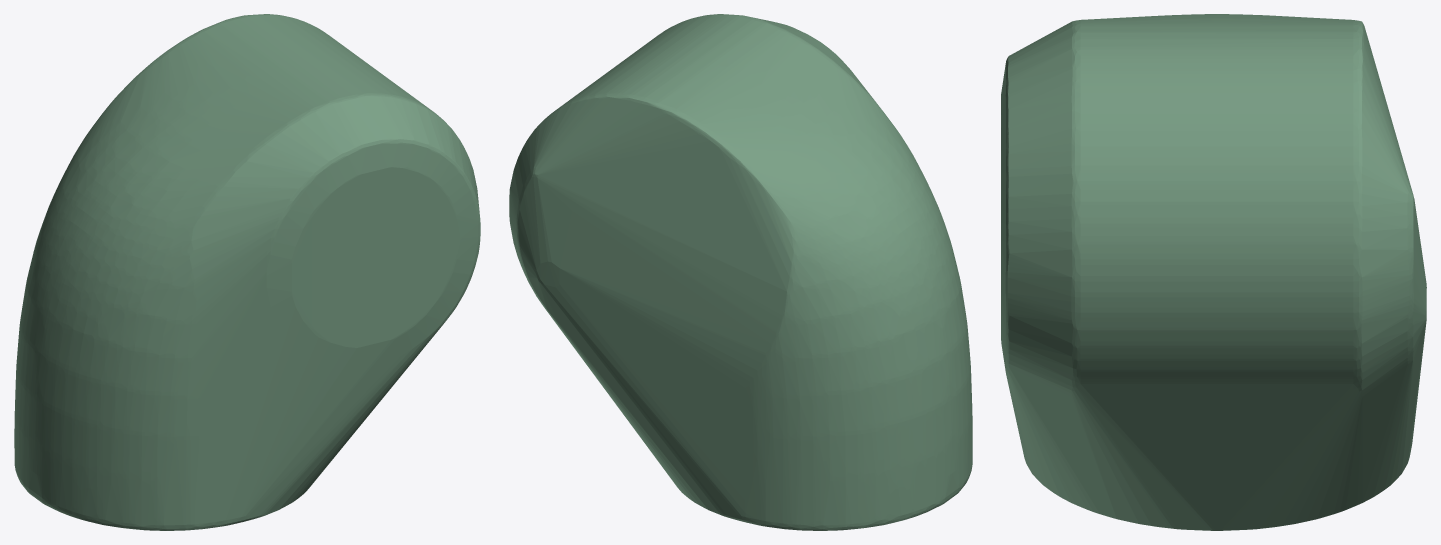
File: L_arm_l1.obj
3 renders of one model, left to right at view 1: azimuth 30°, elevation 25°; view 2: azimuth 150°, elevation 25°; view 3: azimuth 270°, elevation 25°, orthographic. The views are drawn at different scales.
Visible parts, largest first — view 1: geometry_0; view 2: geometry_0; view 3: geometry_0.
Part boxes in pixels (x1=…): geometry_0: x1=14, y1=14, x2=480, y2=530; geometry_0: x1=509, y1=14, x2=972, y2=530; geometry_0: x1=1001, y1=14, x2=1426, y2=530.
Bounding box in the file's own units: 0.1253 × 0.1173 × 0.0929.
